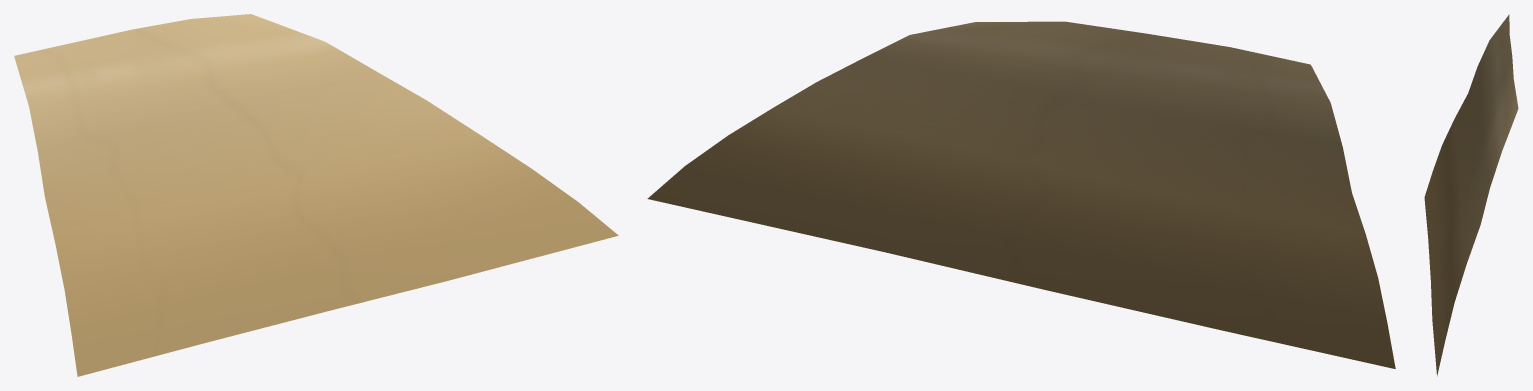
The model's file is desert.fbx.
The picture shows the model from 3 angles, left to right: view 1: azimuth 30°, elevation 25°; view 2: azimuth 150°, elevation 25°; view 3: azimuth 270°, elevation 25°; orthographic projection. The views are drawn at different scales.
Visible parts, largest first — view 1: pPlane1; view 2: pPlane1; view 3: pPlane1.
Part boxes in pixels (left/top/right/bottom): pPlane1: left=14, top=14, right=618, bottom=376; pPlane1: left=647, top=21, right=1395, bottom=368; pPlane1: left=1424, top=14, right=1518, bottom=376.
Size of the model in its own units: 5.11 by 2.44 by 1.13.
Materials: 1 (1 with a texture image).
